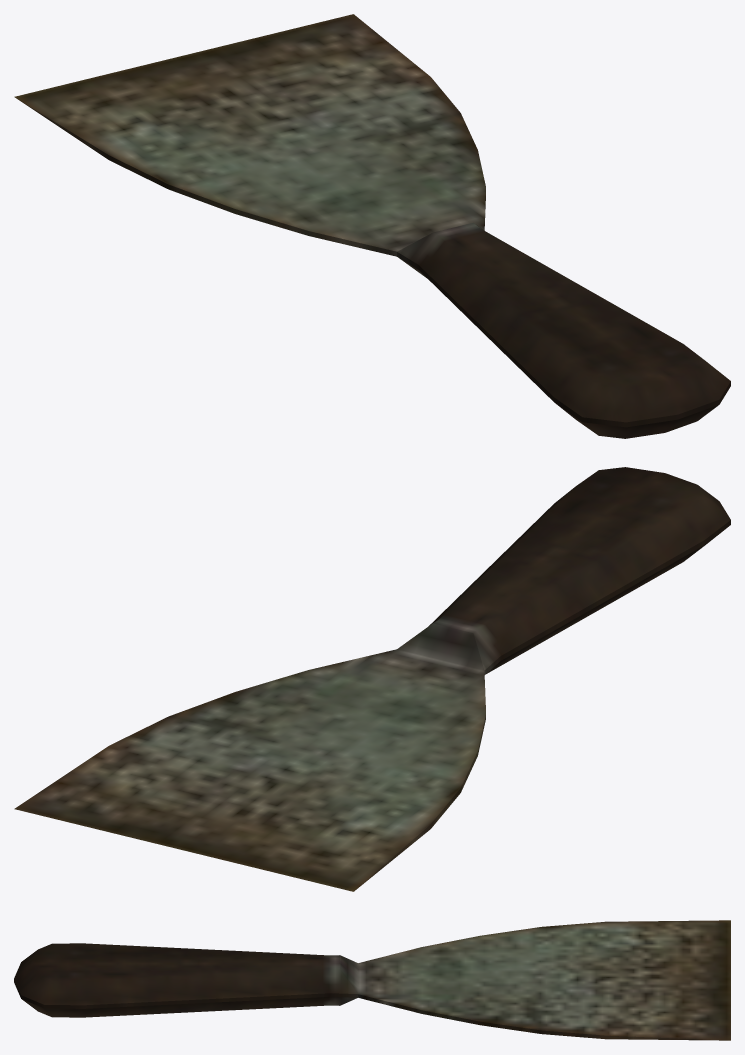
Rendered from misc_tool_mx_5.dae.
The picture shows the model from 3 angles, top to bottom: view 1: azimuth 30°, elevation 25°; view 2: azimuth 150°, elevation 25°; view 3: azimuth 270°, elevation 25°; orthographic projection. The views are drawn at different scales.
Visible parts, largest first — view 1: misc_tool_mx_5; view 2: misc_tool_mx_5; view 3: misc_tool_mx_5.
Part boxes in pixels (bbox=[...]): misc_tool_mx_5: bbox=[14, 14, 730, 438]; misc_tool_mx_5: bbox=[14, 467, 730, 891]; misc_tool_mx_5: bbox=[14, 920, 730, 1040].
Size of the model in its own units: 0.1422 by 0.3582 by 0.02.
Materials: 1 (1 with a texture image).
